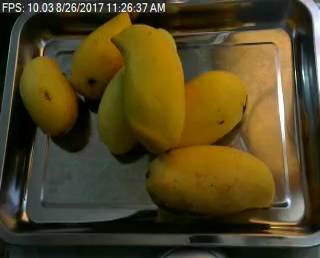Mango: (111, 23, 185, 153), (143, 144, 274, 213), (69, 10, 132, 95), (182, 71, 247, 148), (19, 56, 77, 135), (98, 63, 136, 154)
